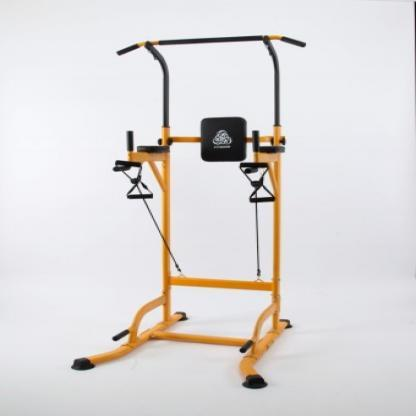chinning dipping: (71, 34, 308, 390)
